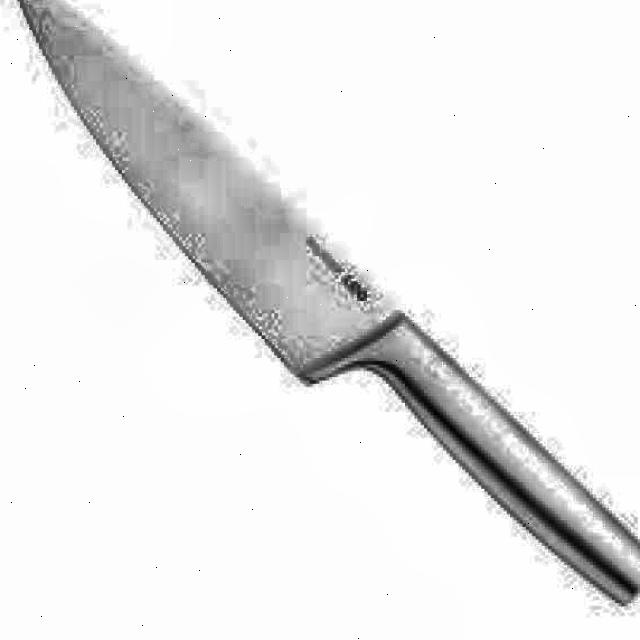knife: (5, 0, 640, 604)
